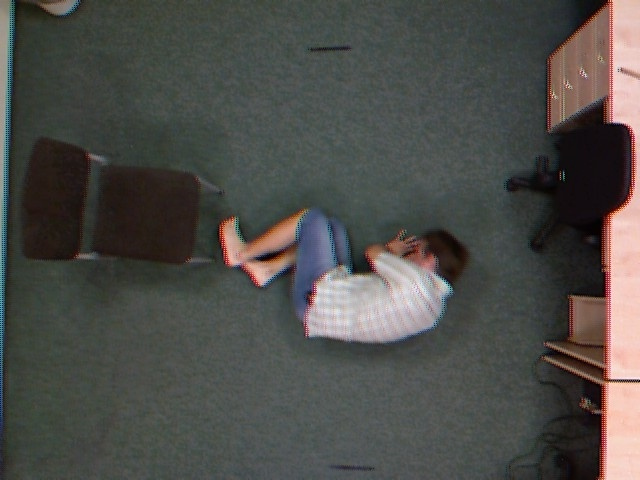fall: (218, 200, 474, 347)
